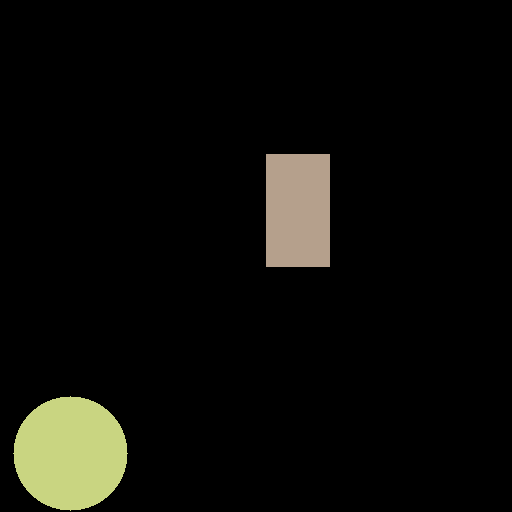circle: (13, 396, 127, 510)
rectangle: (266, 154, 329, 266)
